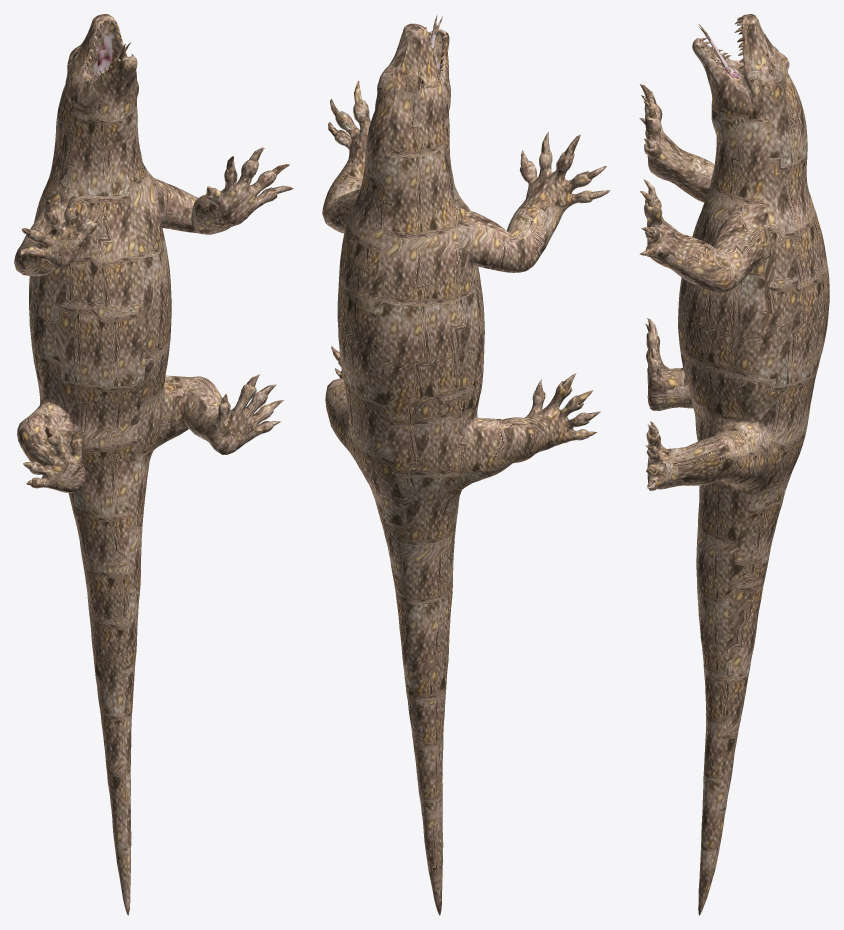
File: megalania obj.fbx
3 views of the same model, side by side, from view 1: azimuth 30°, elevation 25°; view 2: azimuth 150°, elevation 25°; view 3: azimuth 270°, elevation 25° (orthographic). The views are drawn at different scales.
Visible parts, largest first — view 1: Megalania_2; view 2: Megalania_2; view 3: Megalania_2.
Part boxes in pixels (box(x1,y1,x2,y2)): Megalania_2: box(14, 14, 293, 915); Megalania_2: box(322, 15, 610, 915); Megalania_2: box(639, 14, 829, 915).
Size of the model in its own units: 11853 by 36664 by 7031.
Materials: 1 (1 with a texture image).
